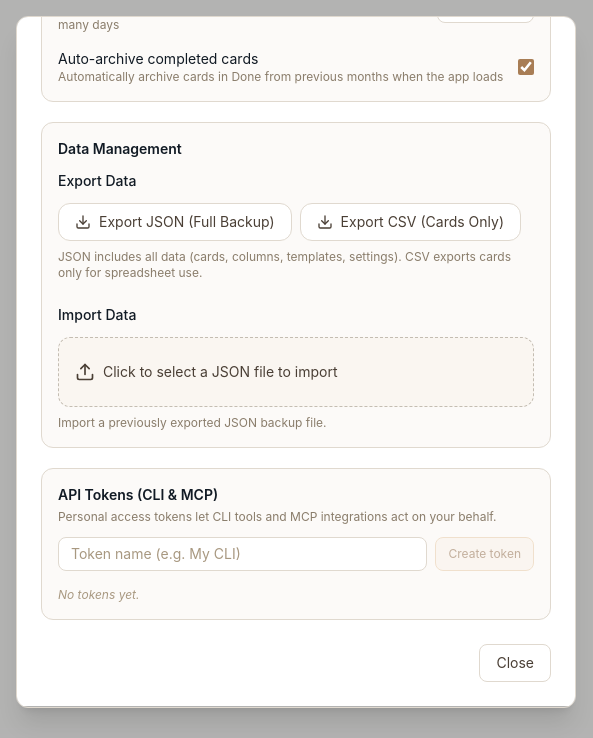
Test: SettingsPanel — API Tokens section › create token › shows the plaintext token in a revealed box after creation
(page scrolled)
Check: the text "No tokens yet." is shown, box [58,587,140,602]
Type "Test token" into the field with placeholder "Token name (e.g. My CLI)". click: [243, 554]
box: [58,537,428,571]
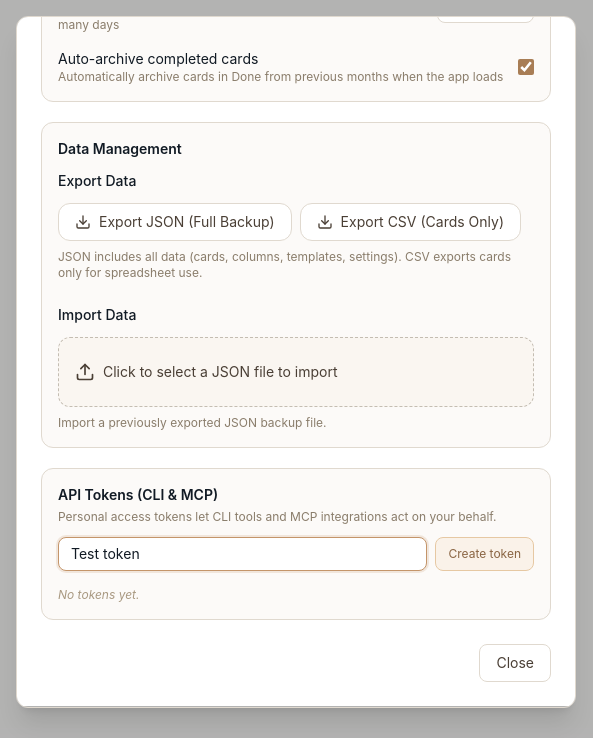
Click the button "Create token". click: [485, 554]
box: [436,537,534,571]
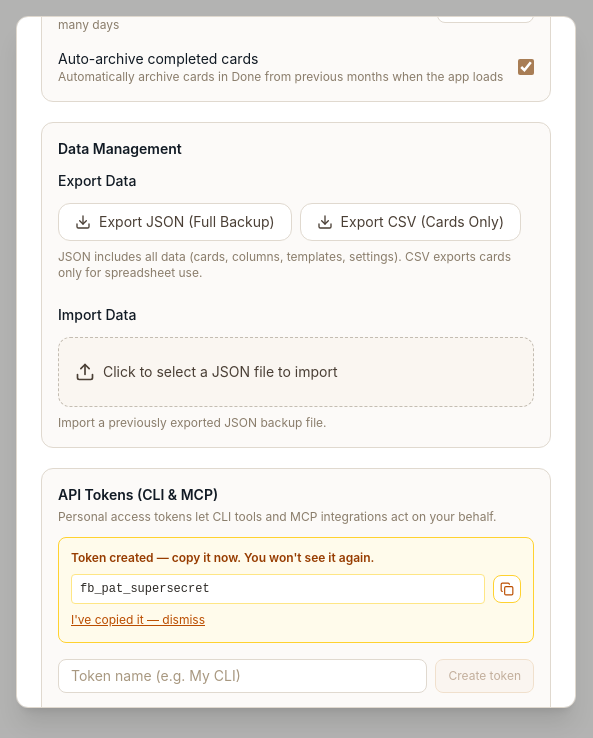
Check: the text named "New API token value" reads "fb_pat_supersecret", box [80,582,210,596]
Check: the text "Token created — copy it now. You won't see it again." is shown, box [71,550,374,566]
